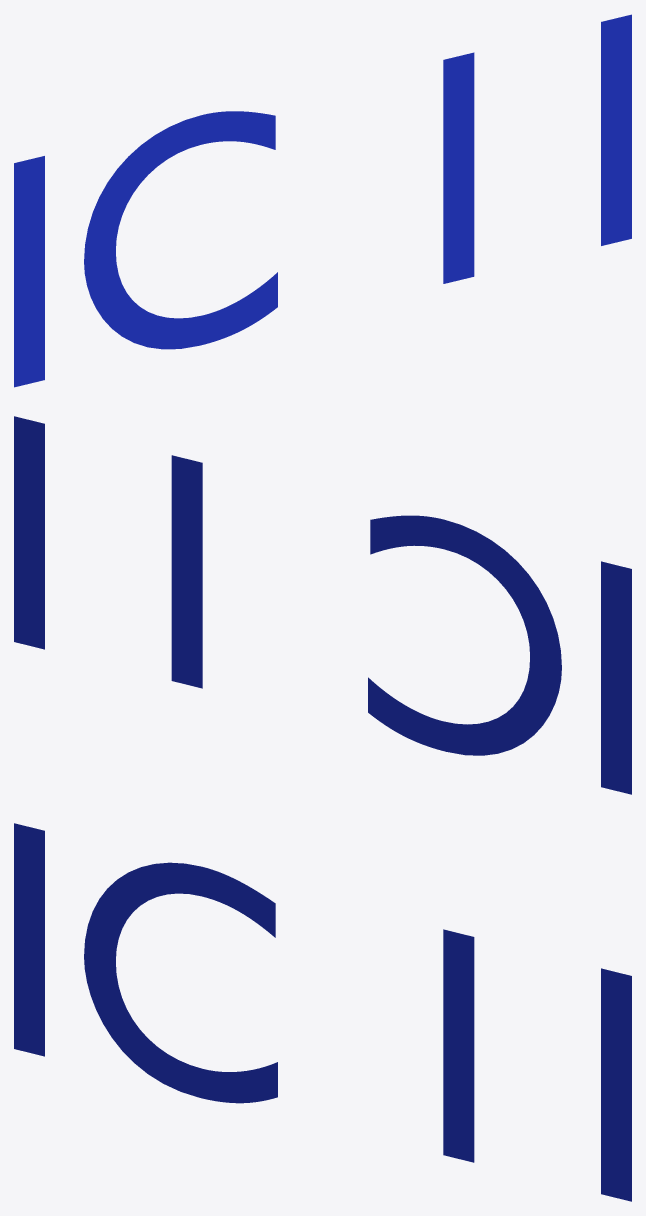
Rendered from InstitutoCiencias11.gltf.
3 renders of one model, top to bottom at view 1: azimuth 30°, elevation 25°; view 2: azimuth 150°, elevation 25°; view 3: azimuth 330°, elevation 25°, orthographic.
Visible parts, largest first — view 1: Text.108; view 2: Text.108; view 3: Text.108.
Part boxes in pixels (x1,y1,x2,y2): Text.108: (14, 14, 631, 387); Text.108: (14, 416, 631, 794); Text.108: (14, 823, 631, 1201).
Size of the model in its own units: 0.6196 by 0.2213 by 0.00366.
